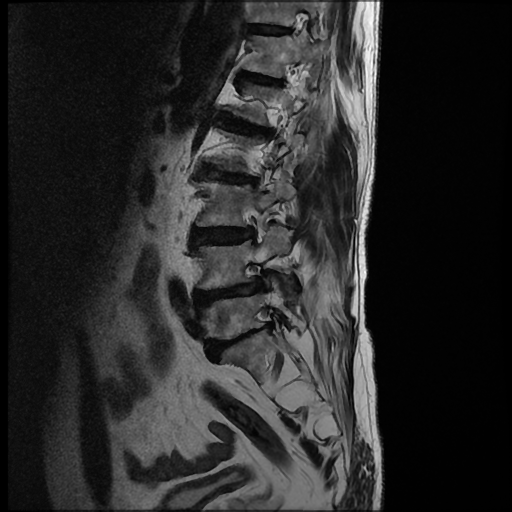LFS2: (233, 251, 278, 298)
